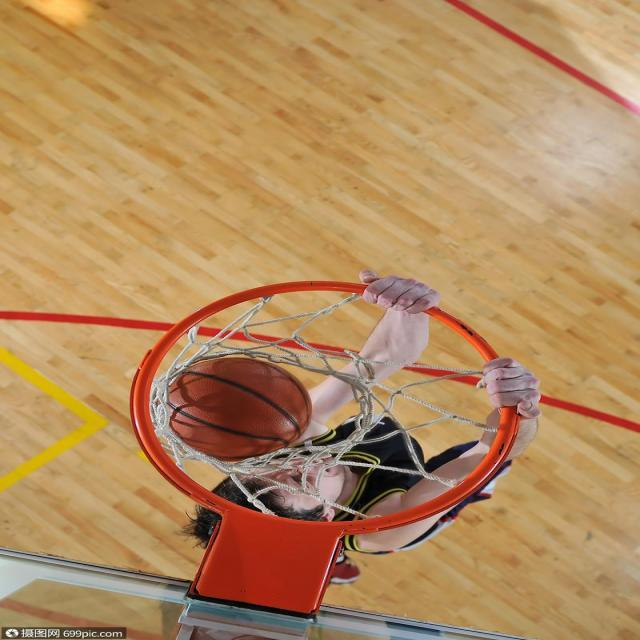rim: (150, 364, 316, 460)
